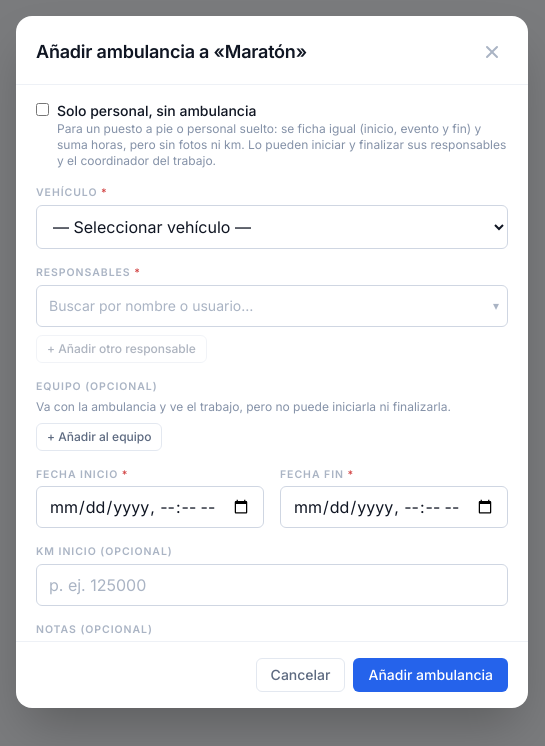
Scenario: AsignacionForm · solo personal (v43) › el aviso de hora pasada habla del grupo, no de la ambulancia
Click the checkbox labelled "Solo personal, sin ambulancia" at [42, 110], box [36,103,49,116]
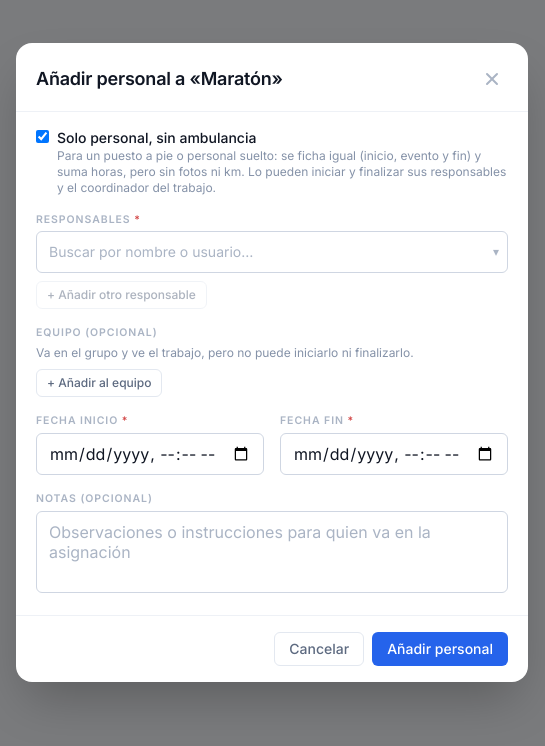
Type "2020-01-01T10:00" into the field below "Fecha inicio" at [150, 454], box [36,433,264,475]
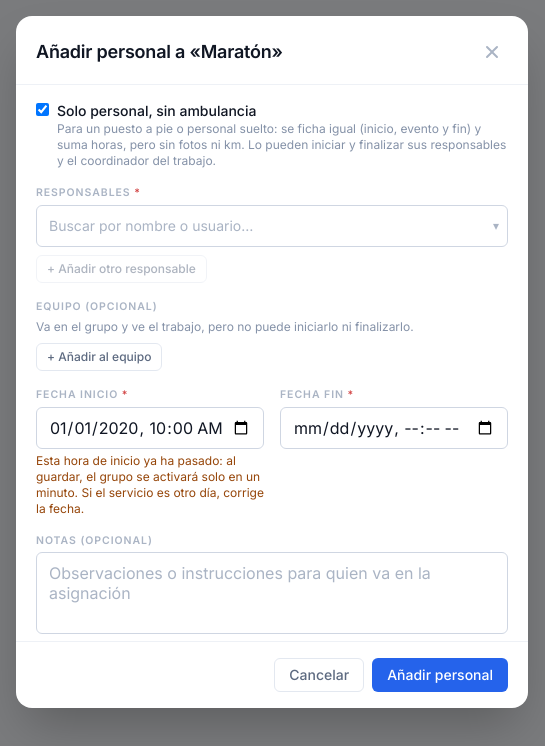
Check: the text with test id "aviso-inicio-pasado" shows "el grupo se activará solo", box [36,453,264,516]
